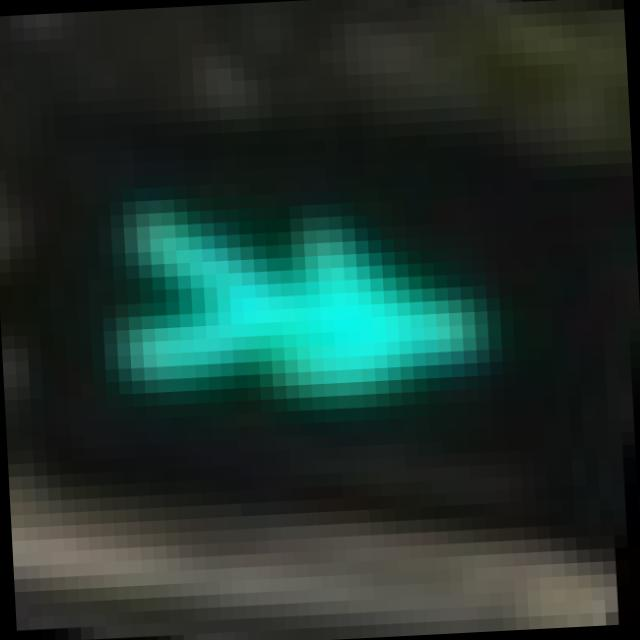green_light: (52, 76, 585, 512)
